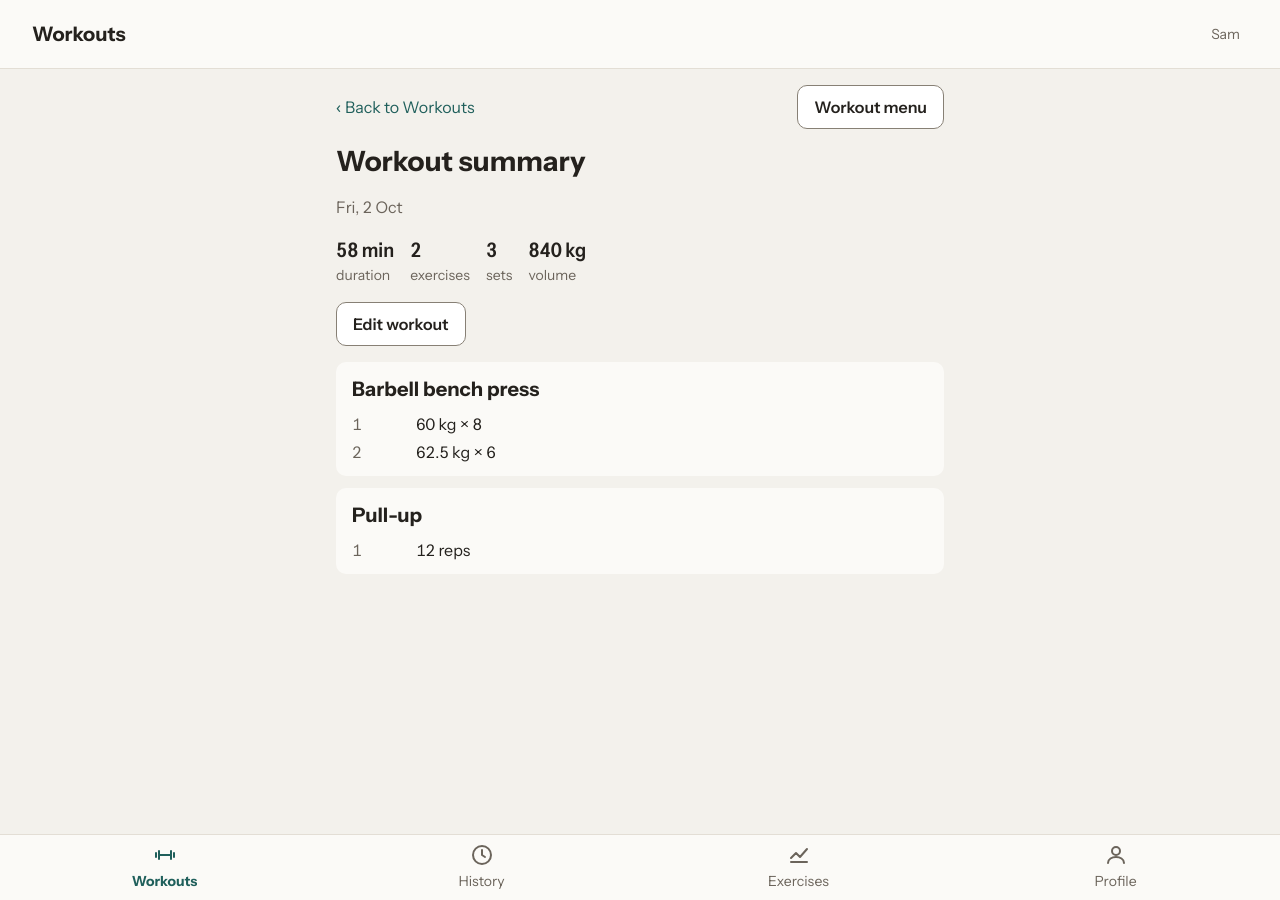
Test case: #107 — Back and the Workout menu lead the summary › Delete workout shows only while the menu is open
This screenshot has width=1280, height=900.
Expected: the heading "Workout summary" is shown, [336,144,585,178]
Expected: the button "Delete workout" is not shown
Click the button "Workout menu" at (871, 107), box [797,85,944,129]
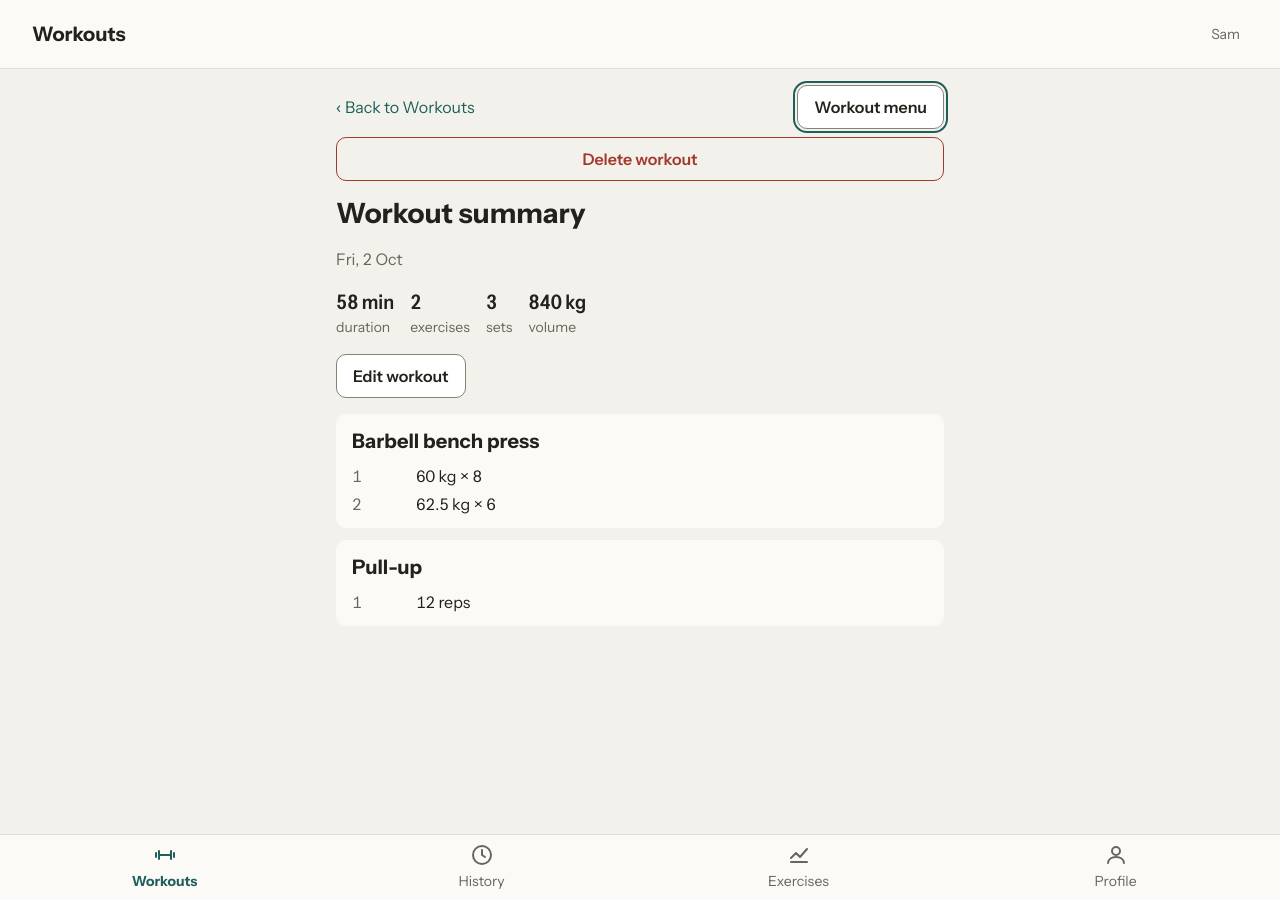
Click the button "Workout menu" at (871, 107), box [797,85,944,129]
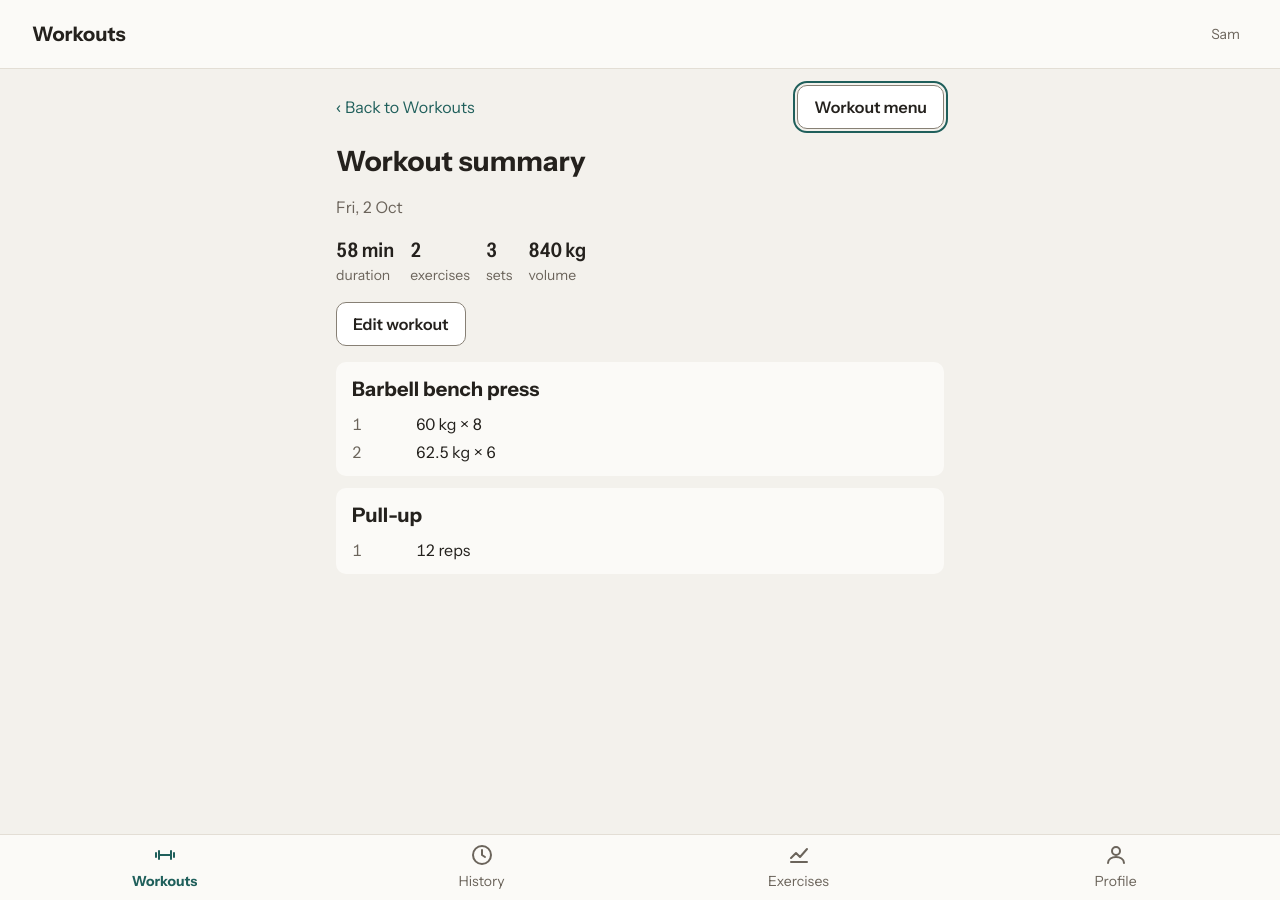
Expected: the button "Delete workout" is gone
